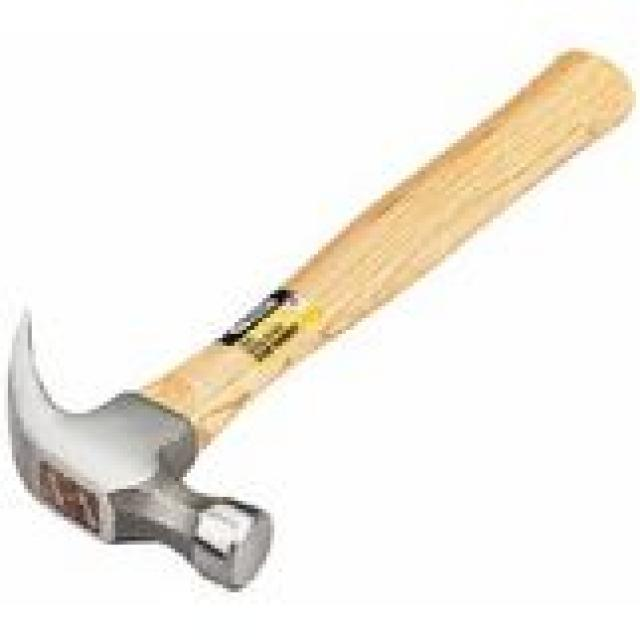hammer: (0, 39, 639, 596)
